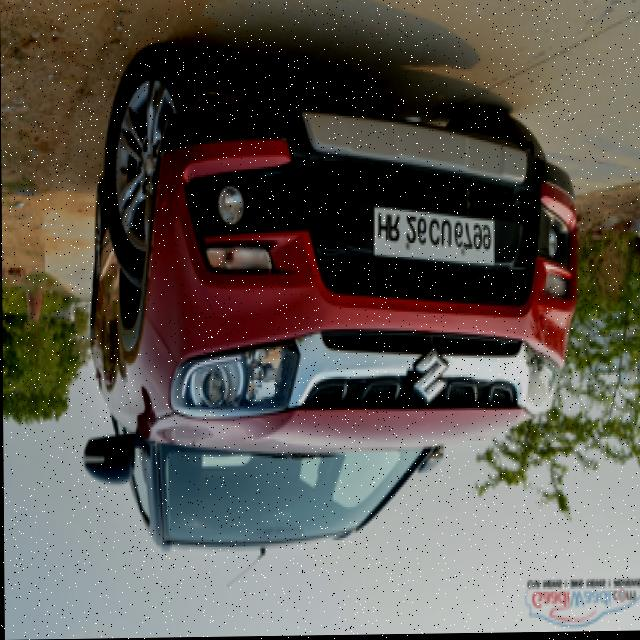plate: (369, 207, 496, 270)
